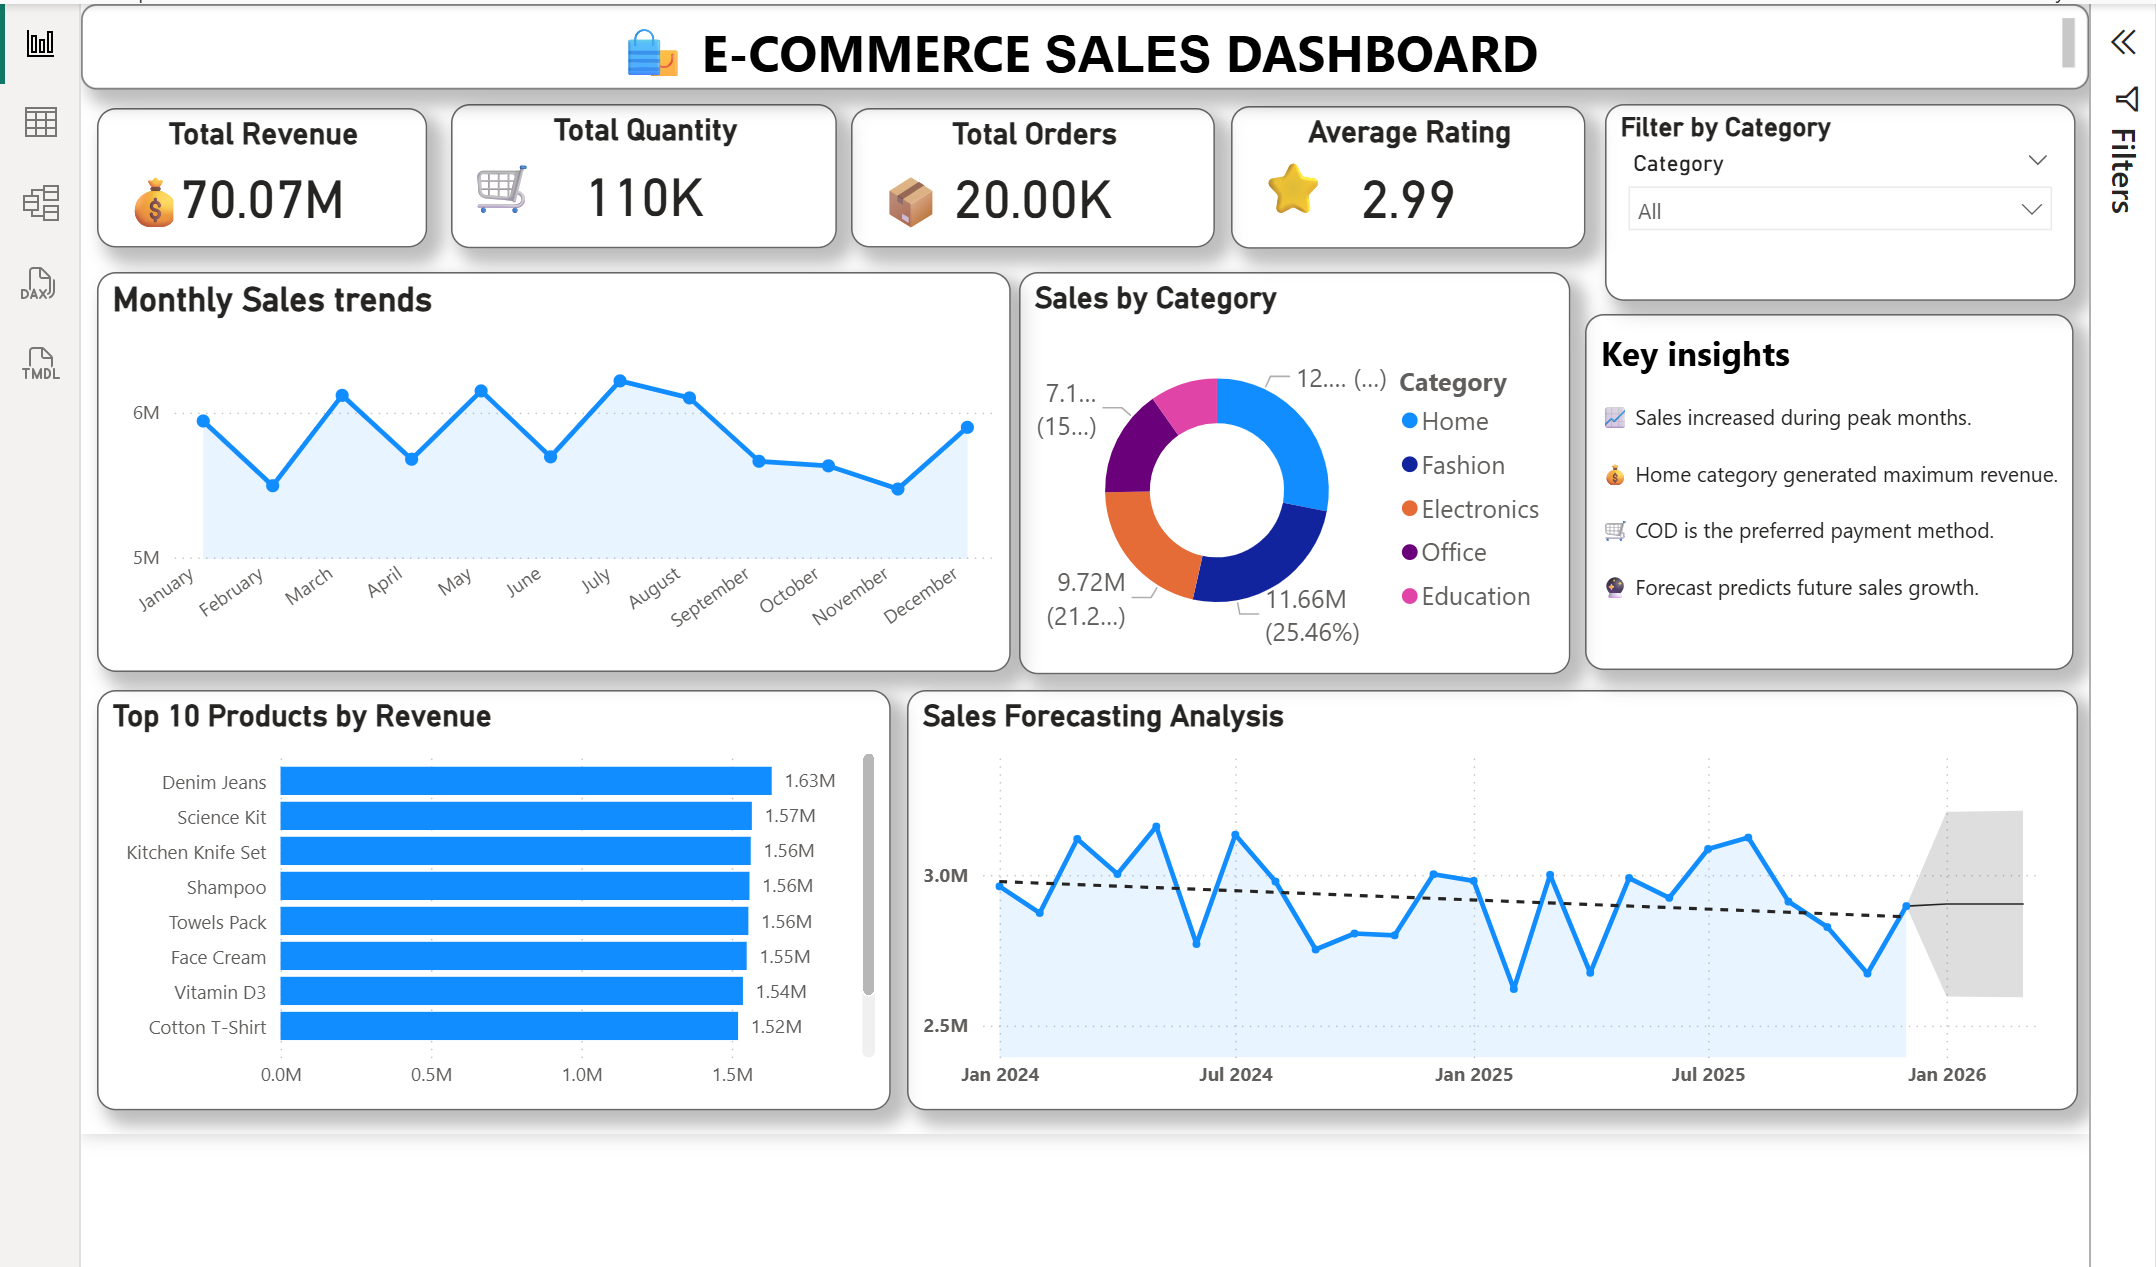

Layout of this report page (visuals, bound fields, positions):
{"tool":"powerbi","page":{"name":"Sales Overview Dashboard","canvas":[1280,720],"ordinal":6},"visuals":[{"type":"card","title":"Total Revenue","fields":{"Values":["Sum(ecommerce_sales_dataset.TotalAmount)"]},"box":[10.2,66.3,210.4,89.2],"z":0},{"type":"card","title":"Total Quantity","fields":{"Values":["Sum(ecommerce_sales_dataset.Quantity)"]},"box":[235.9,63.7,246.1,91.8],"z":1000},{"type":"card","title":"Total Orders","fields":{"Values":["CountNonNull(ecommerce_sales_dataset.OrderID)"]},"box":[490.8,66.3,232,89.2],"z":2000},{"type":"card","title":"Average Rating","fields":{"Values":["Avg(ecommerce_sales_dataset.Rating)"]},"box":[733.1,64.7,225.9,91.1],"z":3000},{"type":"lineChart","title":"Monthly Sales trends","fields":{"Y":["Sum(ecommerce_sales_dataset.TotalAmount)"],"Category":["ecommerce_sales_dataset.OrderDate.Variation.Date Hierarchy.Month"]},"box":[10.6,170.4,582.5,254.9],"z":4000},{"type":"clusteredBarChart","title":"Top 10 Products by Revenue","fields":{"Category":["ecommerce_sales_dataset.ProductName"],"Y":["Sum(ecommerce_sales_dataset.TotalAmount)"]},"box":[10.6,437.2,505.9,268.2],"z":5000},{"type":"donutChart","title":"Sales by Category","fields":{"Category":["ecommerce_sales_dataset.Category"],"Y":["Sum(ecommerce_sales_dataset.TotalAmount)"]},"box":[598.4,170.4,351.4,256.3],"z":6000},{"type":"textbox","box":[0,0,1280,54.4],"z":7000},{"type":"slicer","title":"Filter by Category","fields":{"Values":["ecommerce_sales_dataset.Category"]},"box":[970.9,63.4,299.9,125.5],"z":8000},{"type":"lineChart","title":"Sales Forecasting Analysis","fields":{"Y":["Sum(ecommerce_sales_dataset.TotalAmount)"],"Category":["ecommerce_sales_dataset.OrderDate.Variation.Date Hierarchy.Year","ecommerce_sales_dataset.OrderDate.Variation.Date Hierarchy.Quarter","ecommerce_sales_dataset.OrderDate.Variation.Date Hierarchy.Month","ecommerce_sales_dataset.OrderDate.Variation.Date Hierarchy.Day"]},"box":[527.1,437.2,746.3,268.2],"z":9000},{"type":"textbox","box":[959,198.1,311.7,227.2],"z":10000},{"type":"textbox","box":[19.8,97.8,43.6,54.2],"z":11000},{"type":"textbox","box":[241,89.2,73.9,62.5],"z":12000},{"type":"textbox","box":[502.3,98.2,49.7,53.5],"z":13000},{"type":"textbox","box":[745.8,89.2,59.9,63.7],"z":14000}]}

Visuals, with their boxes on the page's 1280x720 design canvas (x1, y1, x2, y2). These are canvas units, not pixel positions in the 2156x1267 screenshot, which may show the page scaled, cropped or inside an application window:
"Total Revenue" card: 10 66 221 156
"Total Quantity" card: 236 64 482 156
"Total Orders" card: 491 66 723 156
"Average Rating" card: 733 65 959 156
"Monthly Sales trends" lineChart: 11 170 593 425
"Top 10 Products by Revenue" clusteredBarChart: 11 437 516 705
"Sales by Category" donutChart: 598 170 950 427
textbox: 0 0 1280 54
"Filter by Category" slicer: 971 63 1271 189
"Sales Forecasting Analysis" lineChart: 527 437 1273 705
textbox: 959 198 1271 425
textbox: 20 98 63 152
textbox: 241 89 315 152
textbox: 502 98 552 152
textbox: 746 89 806 153
